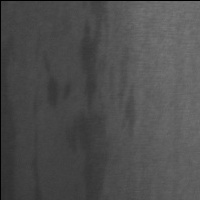inclusion: (74, 9, 112, 200), (2, 45, 19, 197), (39, 41, 71, 116), (118, 77, 145, 144), (26, 121, 45, 200)
